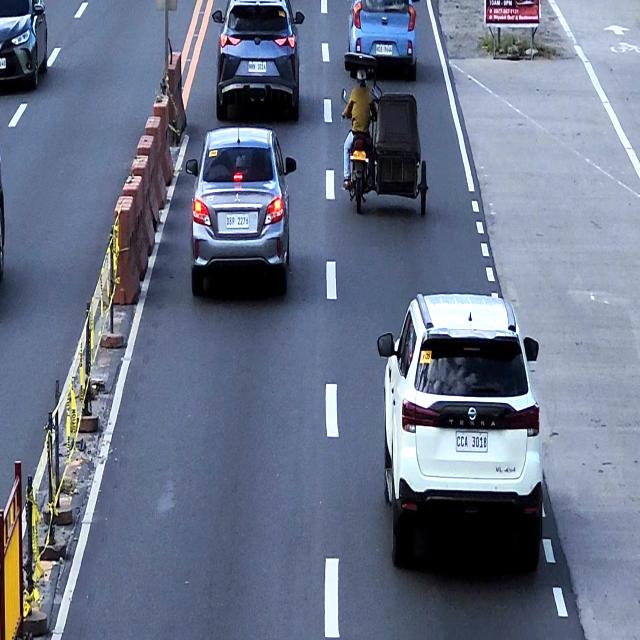Car: (376, 291, 544, 572), (186, 124, 296, 296), (212, 0, 304, 121), (345, 0, 417, 80), (0, 0, 47, 88)
License-Plate: (456, 430, 488, 454), (226, 212, 250, 230), (247, 61, 267, 74), (376, 43, 393, 56), (353, 149, 366, 161), (0, 58, 7, 69)
Tricycle: (340, 52, 429, 217)
